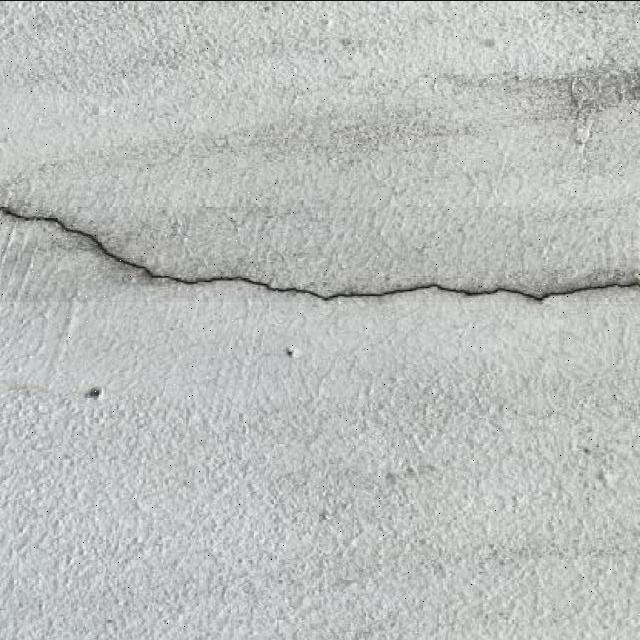crack: (0, 154, 639, 328)
